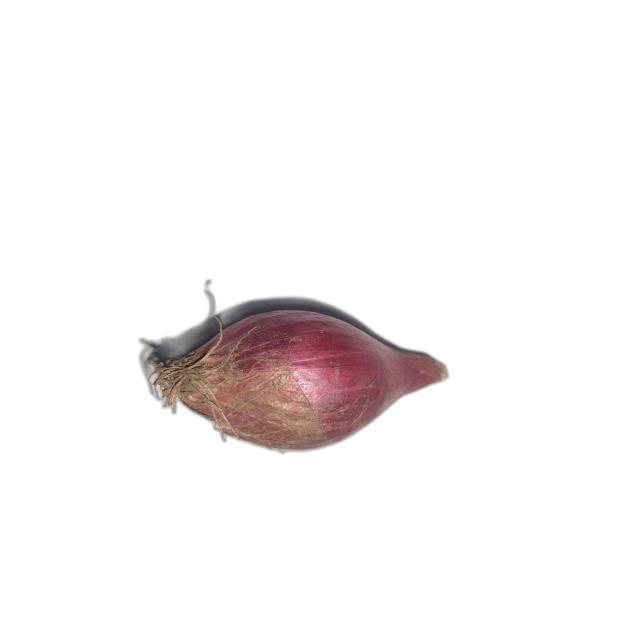onion: (144, 309, 449, 454)
